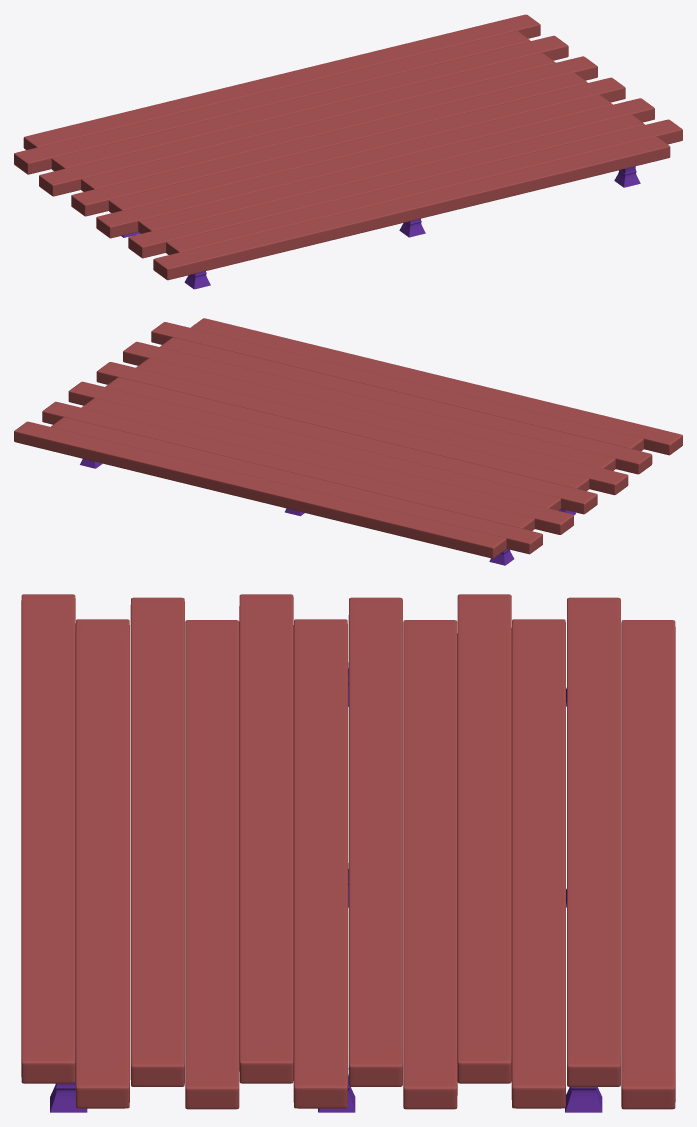
File: Deck.fbx
3 renders of one model, top to bottom at view 1: azimuth 30°, elevation 25°; view 2: azimuth 150°, elevation 25°; view 3: azimuth 270°, elevation 25°, orthographic. The views are drawn at different scales.
Parts seen in each view (by area): view 1: pCube46, pCube33, pCube48, pCube44, pCube50, pCube35, pCube34, pCube49, pCube45, pCube47, pCube28, pCube43; view 2: pCube47, pCube35, pCube44, pCube46, pCube33, pCube50, pCube48, pCube34, pCube45, pCube49, pCube28, pCube43; view 3: pCube35, pCube46, pCube50, pCube28, pCube47, pCube43, pCube45, pCube34, pCube44, pCube49, pCube33, pCube48 (+2 smaller).
Boxes of the visible parts, bbox=[...] form: pCube46: bbox=[153, 136, 670, 280]; pCube33: bbox=[71, 72, 587, 216]; pCube48: bbox=[14, 30, 530, 174]; pCube44: bbox=[128, 114, 644, 258]; pCube50: bbox=[39, 52, 555, 196]; pCube35: bbox=[96, 94, 612, 238]; pCube34: bbox=[108, 77, 625, 213]; pCube49: bbox=[51, 35, 568, 171]; pCube45: bbox=[166, 119, 682, 254]; pCube47: bbox=[23, 14, 540, 149]; pCube28: bbox=[81, 56, 597, 191]; pCube43: bbox=[138, 98, 654, 233]; pCube47: bbox=[14, 421, 506, 558]; pCube35: bbox=[136, 358, 628, 495]; pCube44: bbox=[160, 337, 652, 474]; pCube46: bbox=[190, 318, 682, 455]; pCube33: bbox=[105, 377, 597, 514]; pCube50: bbox=[81, 398, 573, 534]; pCube48: bbox=[51, 417, 542, 554]; pCube34: bbox=[96, 362, 589, 491]; pCube45: bbox=[151, 322, 643, 451]; pCube49: bbox=[42, 401, 534, 530]; pCube28: bbox=[68, 381, 561, 510]; pCube43: bbox=[123, 341, 615, 470]; pCube35: bbox=[239, 594, 293, 1083]; pCube46: bbox=[21, 594, 75, 1083]; pCube50: bbox=[457, 594, 511, 1083]; pCube28: bbox=[403, 620, 457, 1109]; pCube47: bbox=[621, 620, 675, 1109]; pCube43: bbox=[185, 620, 239, 1109]; pCube45: bbox=[75, 619, 129, 1108]; pCube34: bbox=[293, 619, 347, 1108]; pCube44: bbox=[130, 597, 184, 1086]; pCube49: bbox=[511, 619, 565, 1108]; pCube33: bbox=[348, 597, 402, 1086]; pCube48: bbox=[567, 597, 620, 1086].
Size of the model in its own units: 13.07 by 0.8829 by 7.31.
